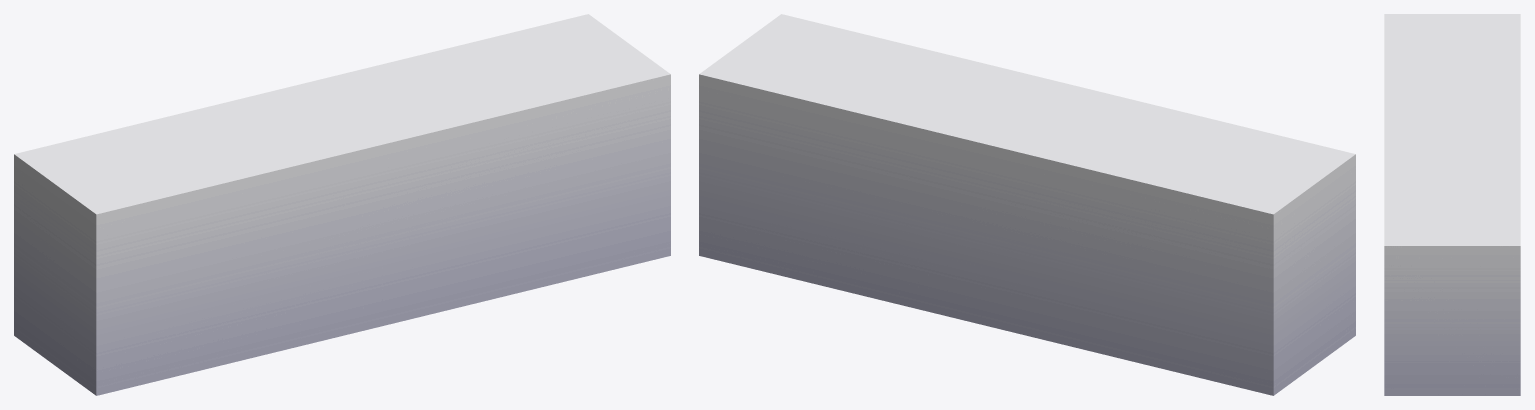
Rendered from brick-kit--none-lq-brick-1x4.glb.
3 views of the same model, side by side, from view 1: azimuth 30°, elevation 25°; view 2: azimuth 150°, elevation 25°; view 3: azimuth 270°, elevation 25° (orthographic). The views are drawn at different scales.
Parts seen in each view (by area): view 1: none-lq-brick-1x4; view 2: none-lq-brick-1x4; view 3: none-lq-brick-1x4.
Part boxes in pixels (box(x1,y1,x2,y2)): none-lq-brick-1x4: box(14, 14, 670, 395); none-lq-brick-1x4: box(699, 14, 1355, 395); none-lq-brick-1x4: box(1384, 14, 1520, 395).
Size of the model in its own units: 0.318 by 0.096 by 0.079.
Materials: 1 (1 with a texture image).
